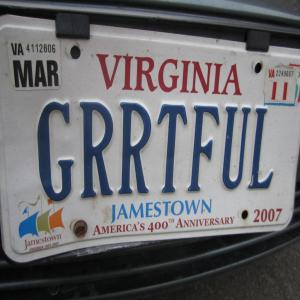Vehicle-registration-plate: (1, 14, 300, 263)
